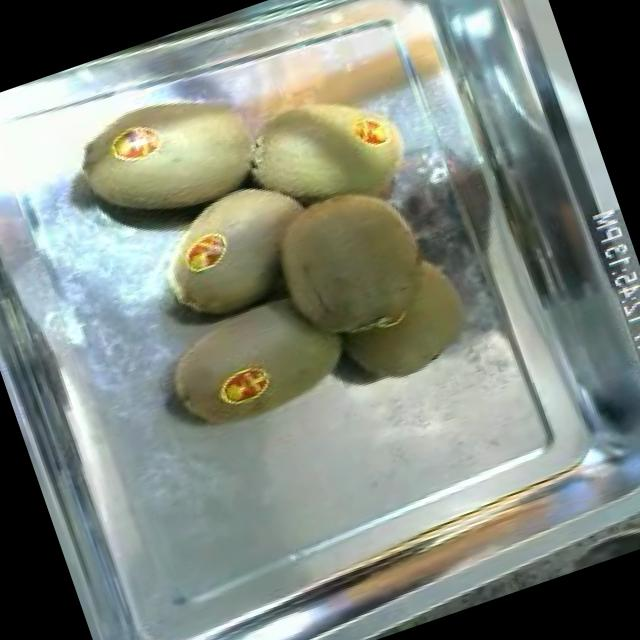Fruit: (244, 150, 492, 420), (184, 0, 438, 257), (55, 64, 286, 256), (140, 268, 364, 444)
